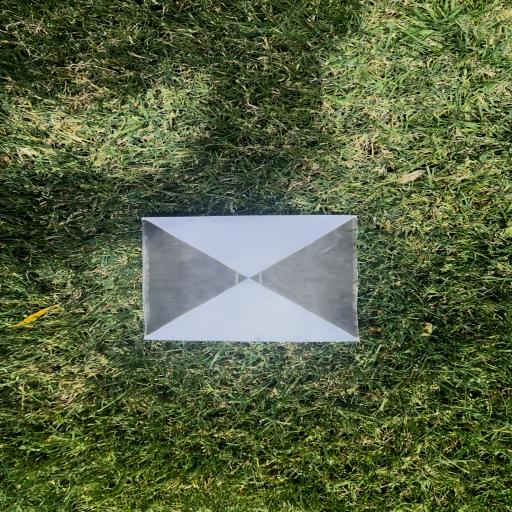target: (146, 218, 359, 341)
